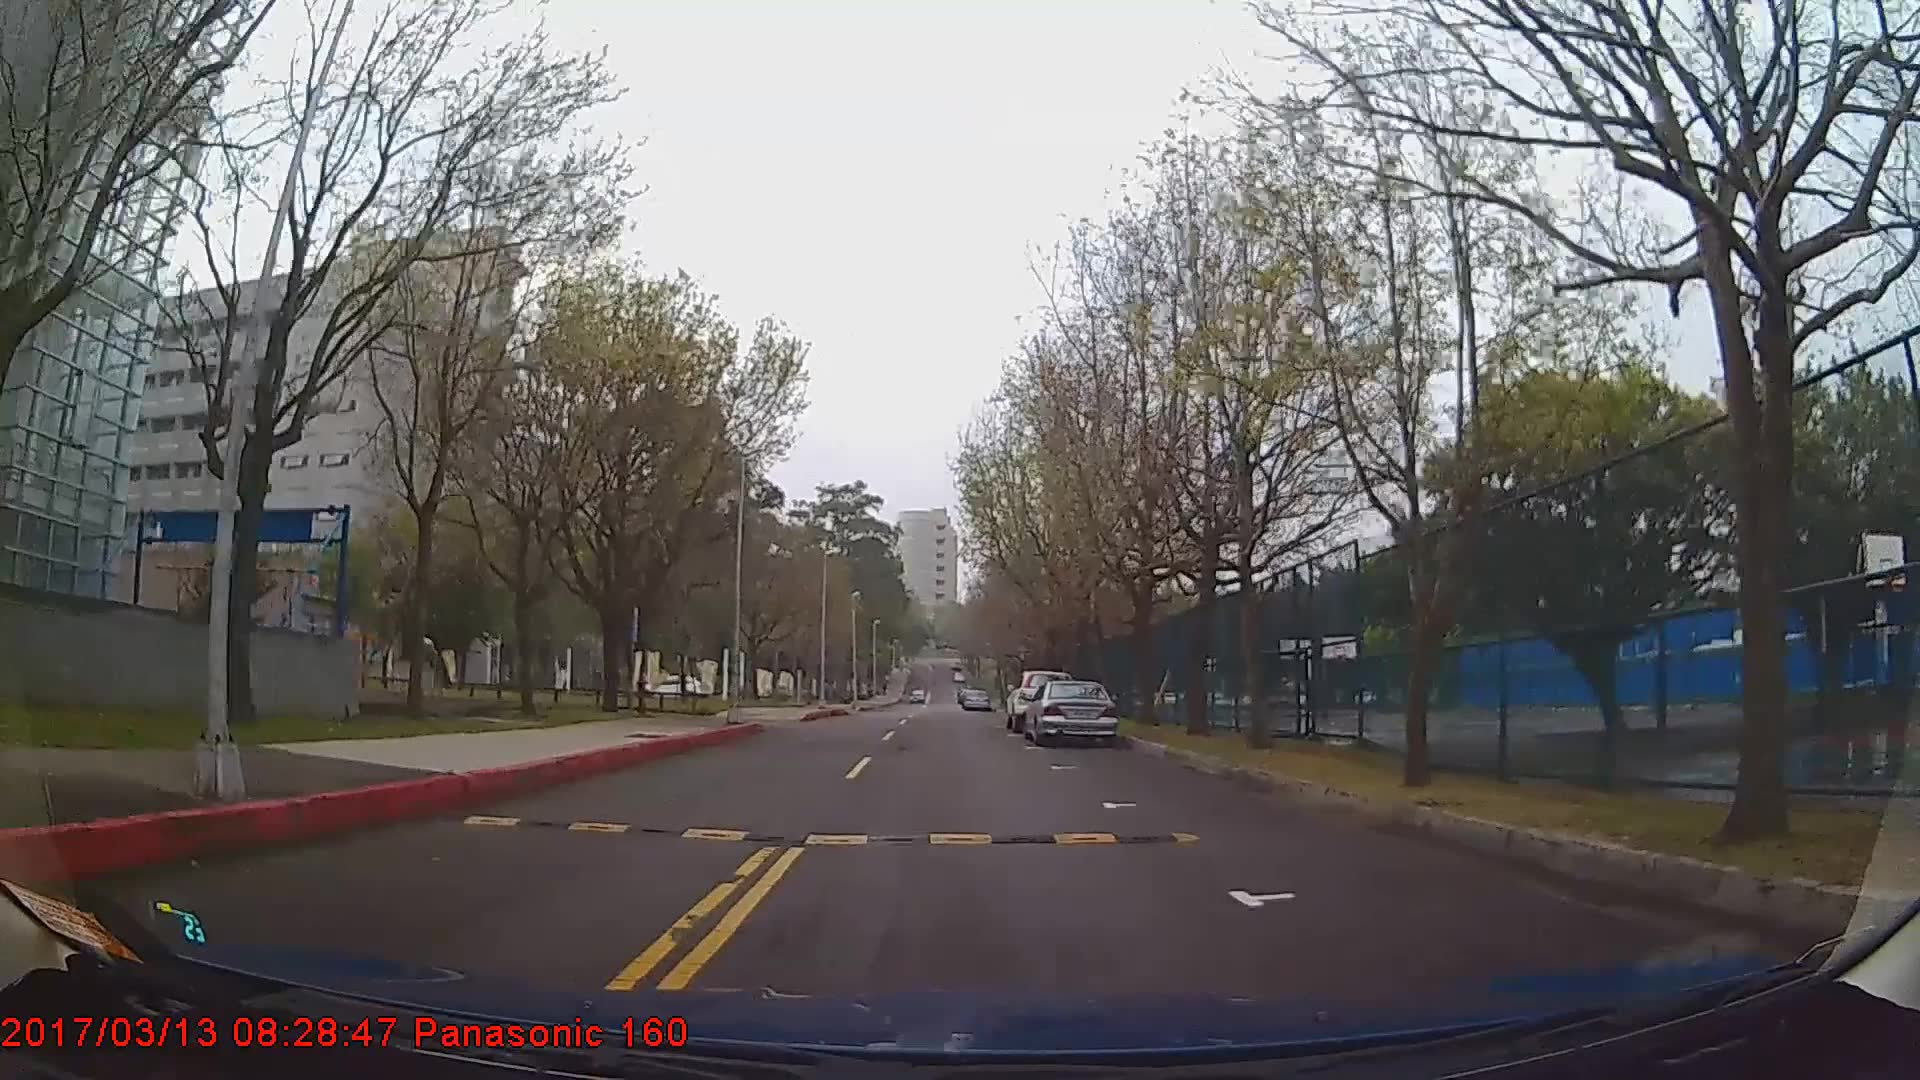vehicle: (1021, 676, 1120, 742), (1005, 667, 1073, 732), (957, 684, 986, 707)
